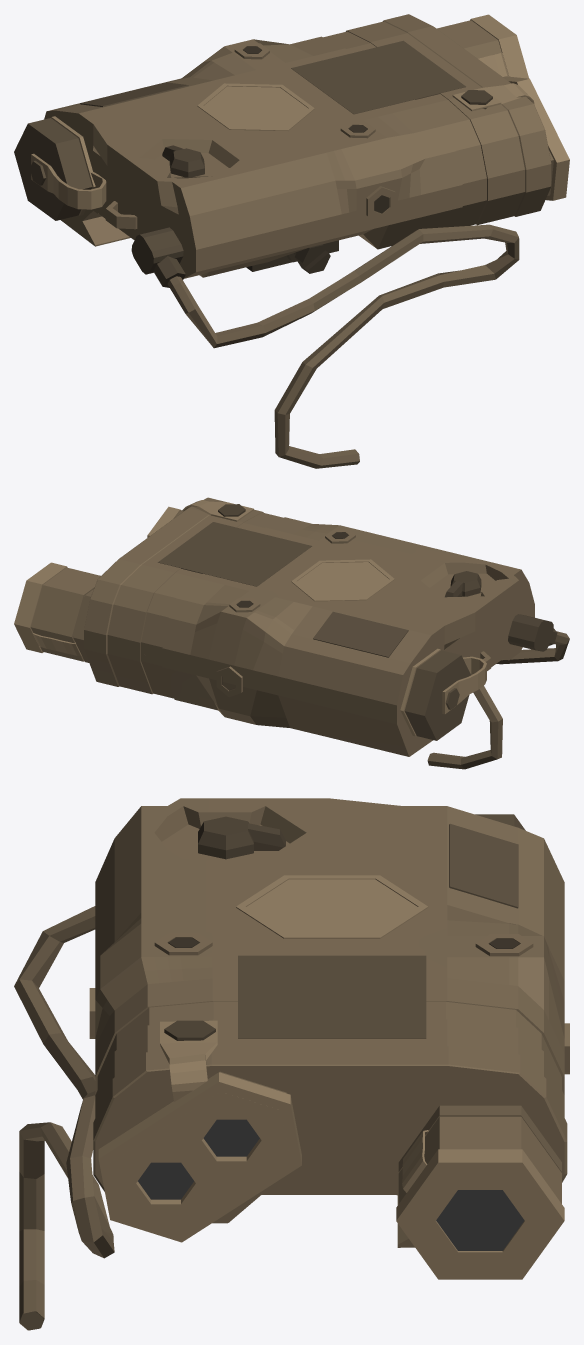
The model's file is Laser_GLTF.glb.
3 renders of one model, top to bottom at view 1: azimuth 30°, elevation 25°; view 2: azimuth 150°, elevation 25°; view 3: azimuth 270°, elevation 25°, orthographic. The views are drawn at different scales.
Visible parts, largest first — view 1: Laser; view 2: Laser; view 3: Laser.
Boxes of the visible parts, <box> form: Laser: <box>14,14,569,468</box>; Laser: <box>14,497,569,769</box>; Laser: <box>14,798,569,1330</box>.
Bounding box in the file's own units: 1.77 × 1.03 × 1.21.
